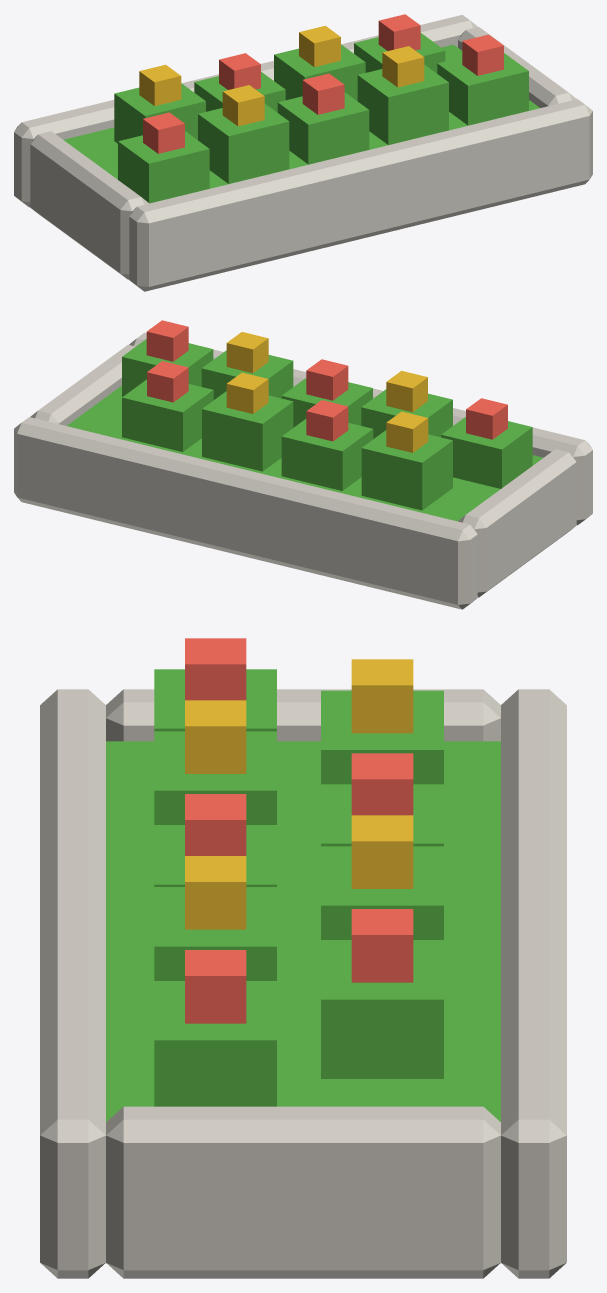
The model's file is flower-bed.glb.
The picture shows the model from 3 angles, top to bottom: view 1: azimuth 30°, elevation 25°; view 2: azimuth 150°, elevation 25°; view 3: azimuth 270°, elevation 25°; orthographic projection. The views are drawn at different scales.
Parts seen in each view (by area): view 1: flower-bed; view 2: flower-bed; view 3: flower-bed.
Boxes of the visible parts, x1=… form: flower-bed: x1=14, y1=14, x2=592, y2=291; flower-bed: x1=14, y1=320, x2=592, y2=609; flower-bed: x1=40, y1=638, x2=566, y2=1278.
Bounding box in the file's own units: 2.4 × 0.68 × 1.2.
